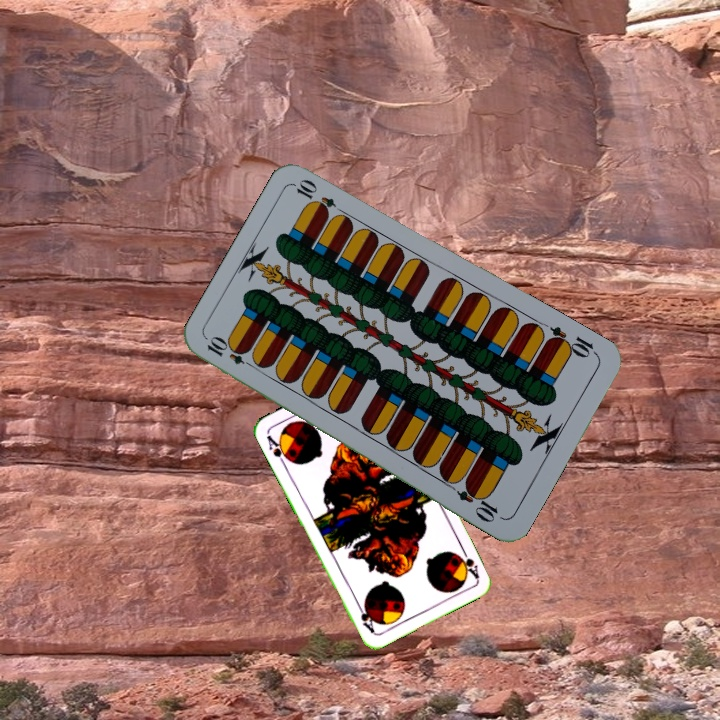E10: (543, 322, 600, 361), (203, 334, 259, 372)
SA: (262, 431, 293, 468), (454, 543, 482, 581)
